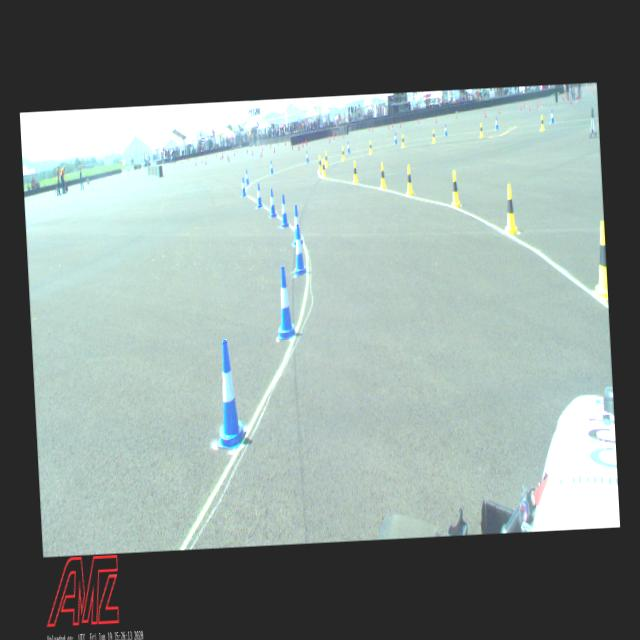blue_cone: (212, 339, 246, 450), (274, 266, 296, 340), (292, 224, 307, 276), (292, 205, 303, 246), (280, 194, 288, 227), (269, 190, 277, 218), (256, 184, 263, 208), (242, 177, 246, 197), (550, 109, 554, 123), (270, 161, 274, 174), (494, 117, 498, 129), (444, 124, 447, 136), (306, 150, 309, 162), (347, 142, 350, 153), (394, 133, 397, 144), (246, 170, 248, 186)
unknown_cone: (302, 140, 304, 148), (334, 133, 336, 140), (260, 151, 262, 158), (228, 155, 230, 162), (520, 104, 522, 110), (570, 98, 572, 104), (576, 94, 578, 100), (273, 147, 275, 153), (298, 144, 300, 150), (485, 110, 486, 118), (590, 87, 592, 91), (329, 136, 330, 144), (284, 140, 286, 144), (270, 143, 272, 147), (258, 144, 260, 148), (537, 101, 538, 108), (524, 101, 525, 108), (529, 105, 530, 111), (540, 100, 541, 106), (594, 88, 595, 94), (400, 122, 401, 128), (392, 122, 393, 128), (372, 126, 373, 132), (368, 126, 369, 132), (305, 138, 306, 144), (388, 124, 389, 129), (306, 141, 307, 146), (292, 144, 293, 149), (252, 151, 253, 156), (247, 149, 248, 154), (418, 119, 419, 123), (562, 96, 563, 100), (457, 114, 458, 118), (343, 134, 344, 138), (338, 134, 339, 138), (270, 144, 271, 148), (262, 146, 263, 150), (592, 84, 593, 87), (288, 140, 289, 143), (436, 118, 436, 123), (500, 108, 500, 114), (278, 142, 278, 146)
yellow_cone: (592, 222, 608, 300), (503, 184, 518, 236), (450, 170, 461, 208), (406, 165, 414, 194), (379, 162, 386, 190), (352, 160, 358, 183), (322, 160, 326, 178), (318, 156, 322, 172), (540, 115, 544, 130), (324, 152, 328, 166), (480, 124, 484, 137), (432, 130, 436, 143), (342, 148, 346, 160), (369, 140, 372, 154), (402, 134, 404, 148)
